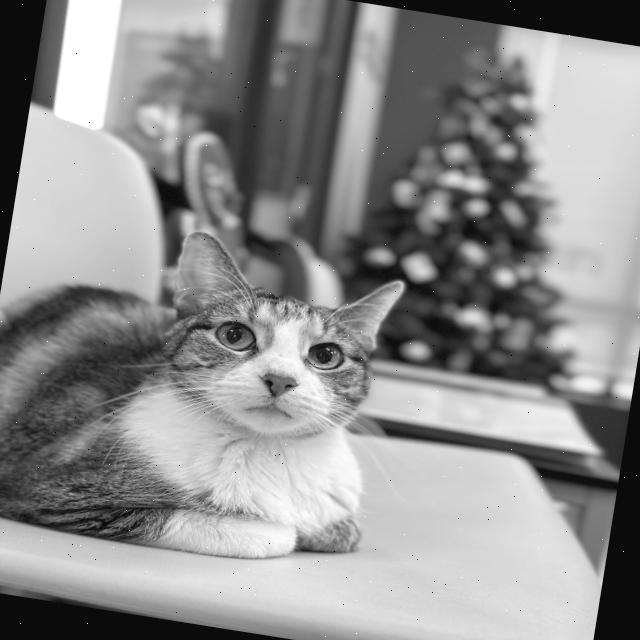calico_cat: (110, 217, 429, 478)
